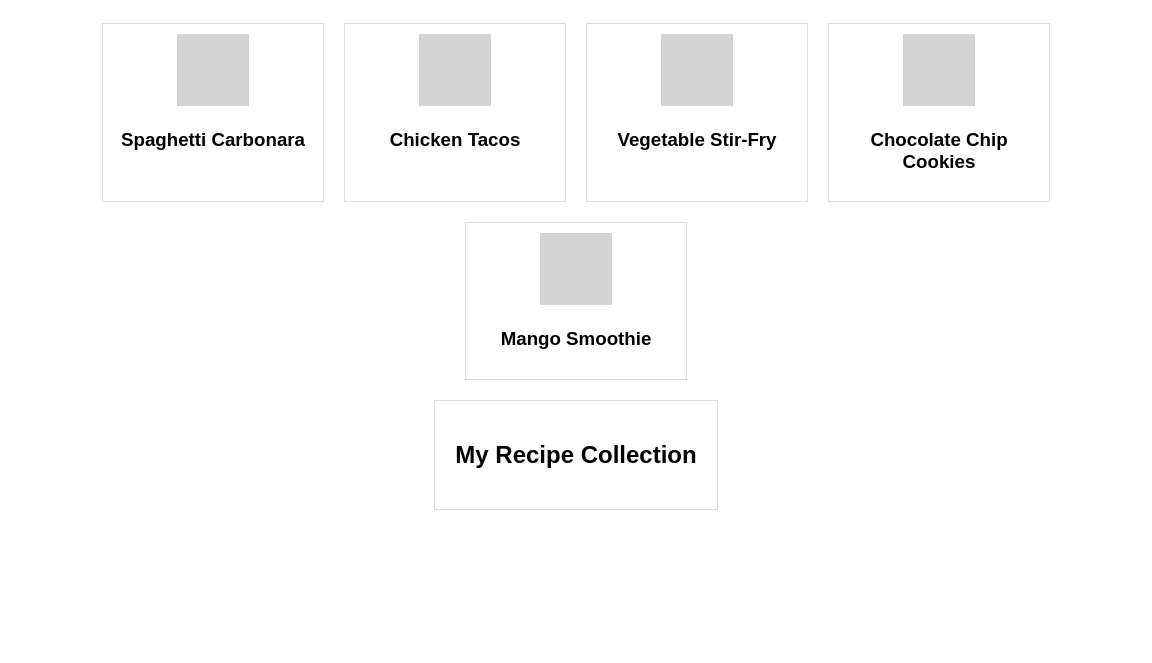
Test case: App › displays delete button during the on click of 'Save to Collection' button for the list of recipes › displays_delete_button_for_vegetable_stir_fry
The image size is (1152, 663).
Click the heading "Vegetable Stir-Fry": point(697, 139) [618,129,776,150]
(page scrolled)
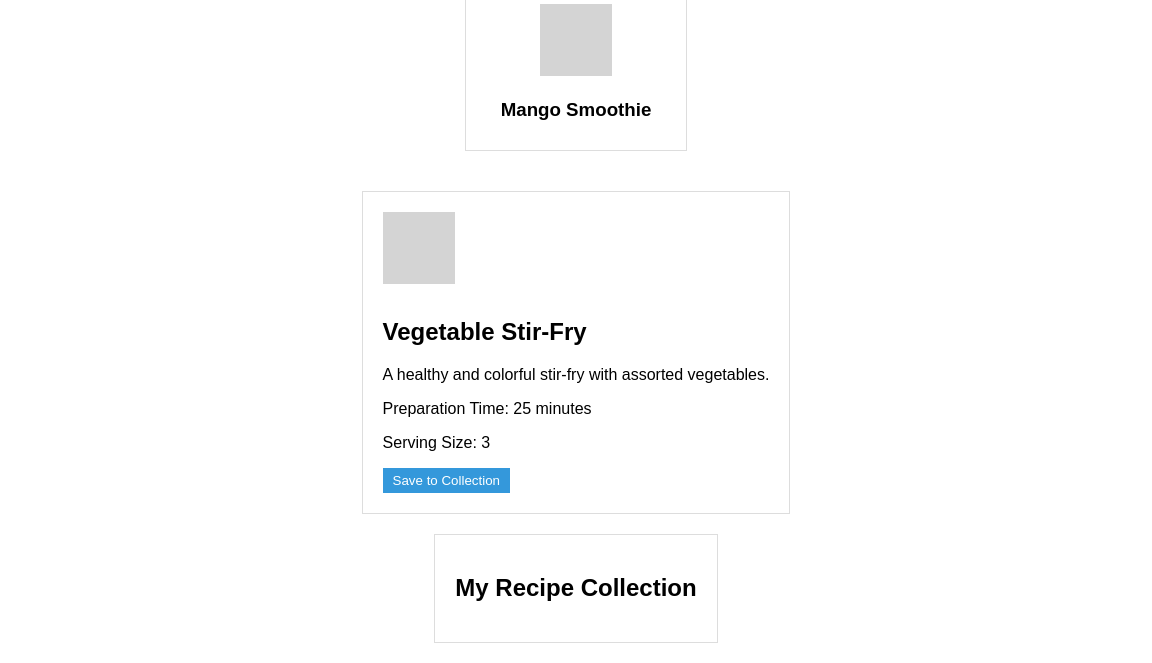
Result: the button "Save to Collection" is shown
Click the button "Save to Collection": point(446, 480) [383,468,510,493]
(page scrolled)
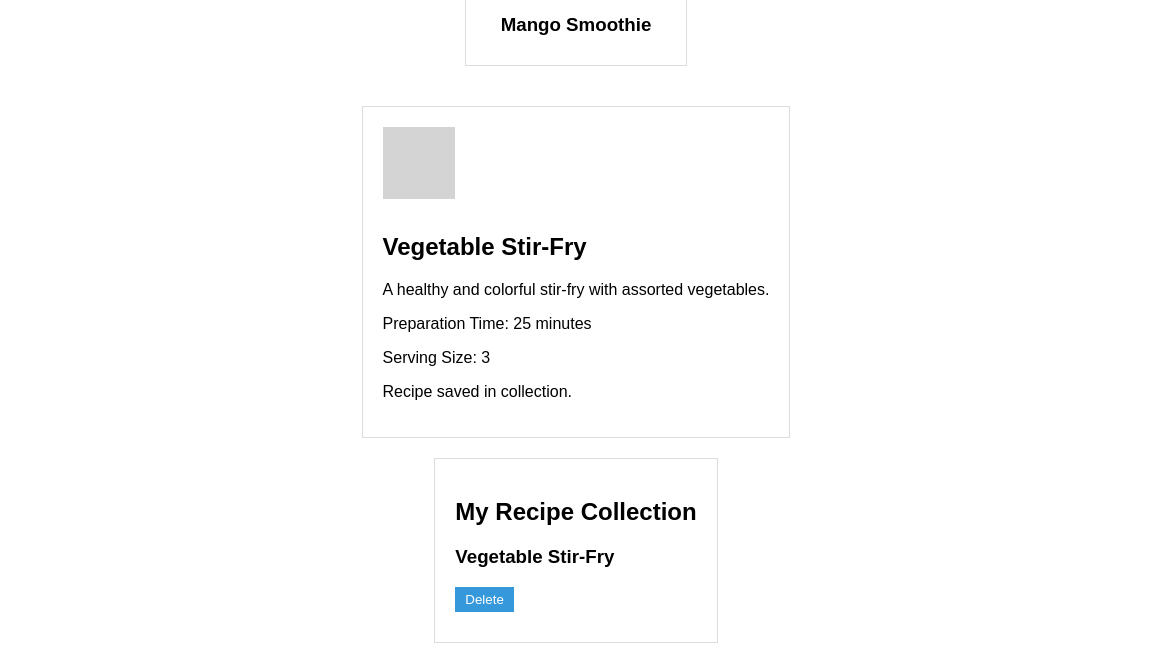
Result: the button "Delete" is shown at [455,587,514,612]
